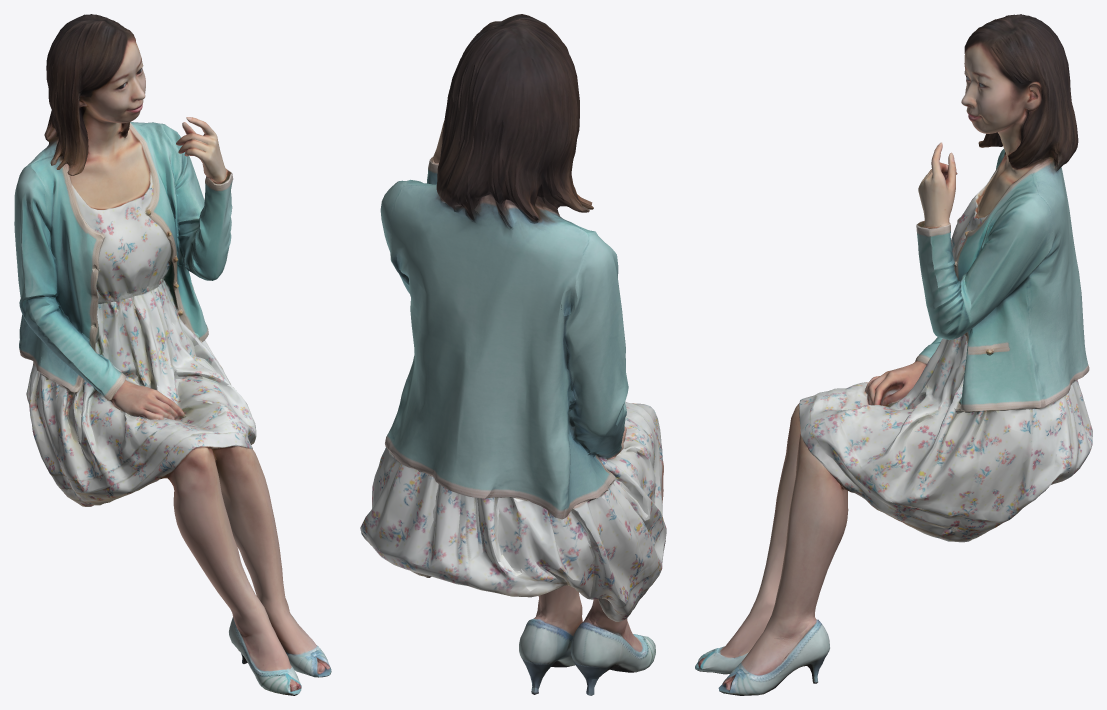
Rendered from 091_Aya.fbx.
3 views of the same model, side by side, from view 1: azimuth 30°, elevation 25°; view 2: azimuth 150°, elevation 25°; view 3: azimuth 270°, elevation 25° (orthographic). The views are drawn at different scales.
Visible parts, largest first — view 1: 091_Aya_01; view 2: 091_Aya_01; view 3: 091_Aya_01.
Boxes of the visible parts, x1,y1,x2,y2 form: 091_Aya_01: (14,14,331,695); 091_Aya_01: (360,14,666,695); 091_Aya_01: (695,14,1092,695).
Bounding box in the file's own units: 44.56 × 133 × 77.01.
1 material, 1 textured.
